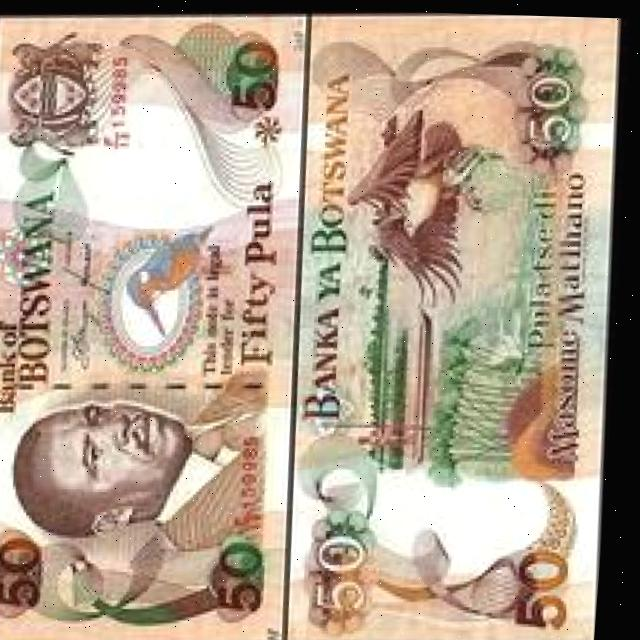banknote: (274, 7, 640, 640), (0, 14, 317, 640)
